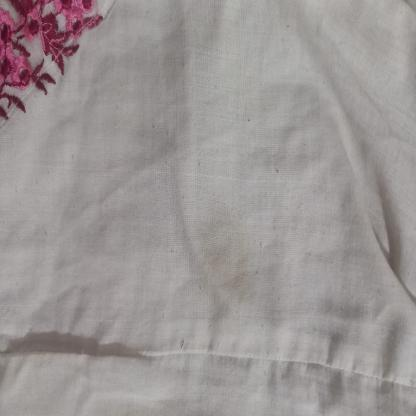spot: (192, 162, 258, 325)
